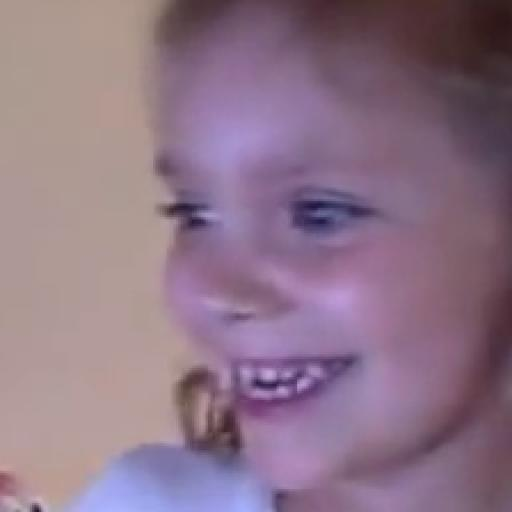Autism: (94, 16, 512, 512)
